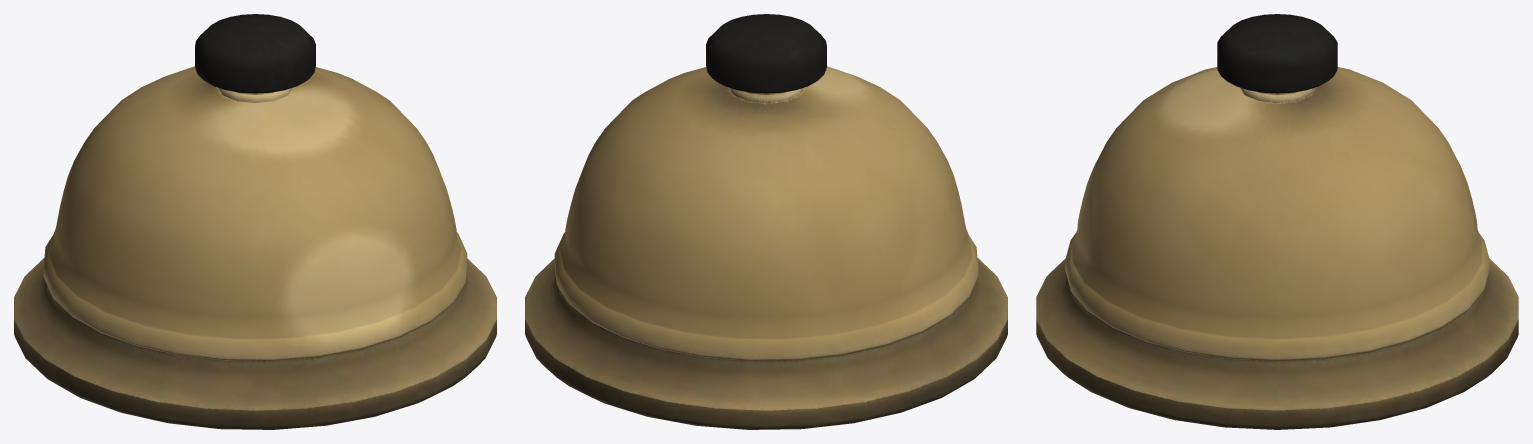
File: service-bell.glb
3 views of the same model, side by side, from view 1: azimuth 30°, elevation 25°; view 2: azimuth 150°, elevation 25°; view 3: azimuth 270°, elevation 25° (orthographic).
Parts seen in each view (by area): view 1: bell_body, plunger; view 2: bell_body, plunger; view 3: bell_body, plunger.
Boxes of the visible parts, x1=… form: bell_body: x1=14, y1=66, x2=496, y2=429; plunger: x1=195, y1=14, x2=315, y2=95; bell_body: x1=525, y1=66, x2=1007, y2=429; plunger: x1=706, y1=14, x2=826, y2=95; bell_body: x1=1036, y1=67, x2=1518, y2=429; plunger: x1=1217, y1=14, x2=1337, y2=94.
Size of the model in its own units: 0.096 by 0.0661 by 0.0955.
Materials: 1 (1 with a texture image).
